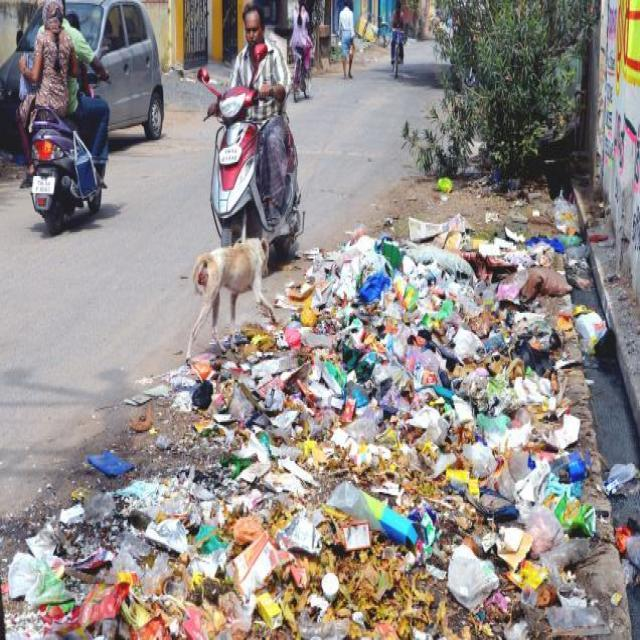plastic: (9, 214, 634, 632)
